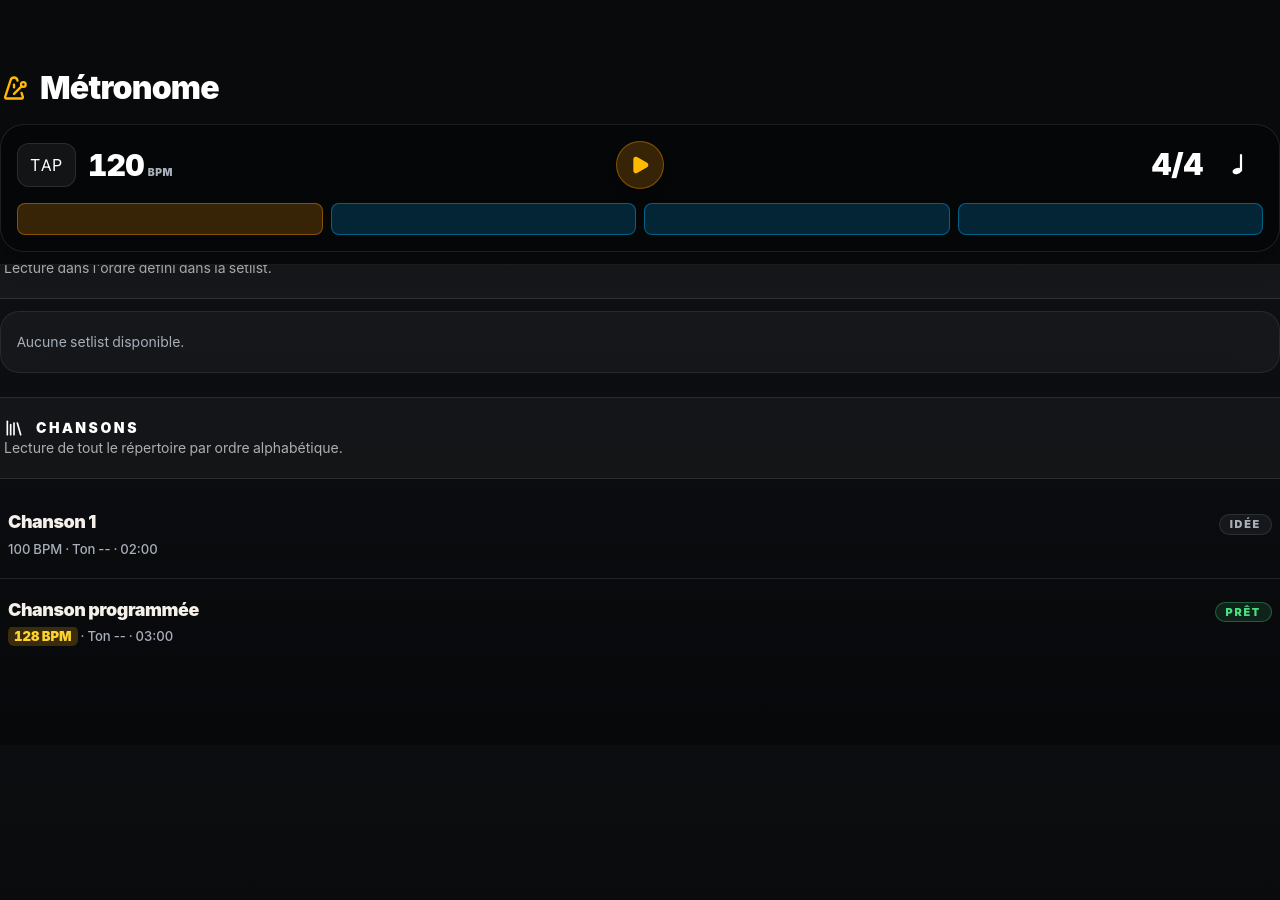
it: MetronomePage - Morceaux programmés › affiche une section infinie sans fin de mesures
The image size is (1280, 900).
Click the button with aria-label "Lancer le métronome programmé de Chanson programmée" at coordinates (103, 609), box [0,579,1279,665]
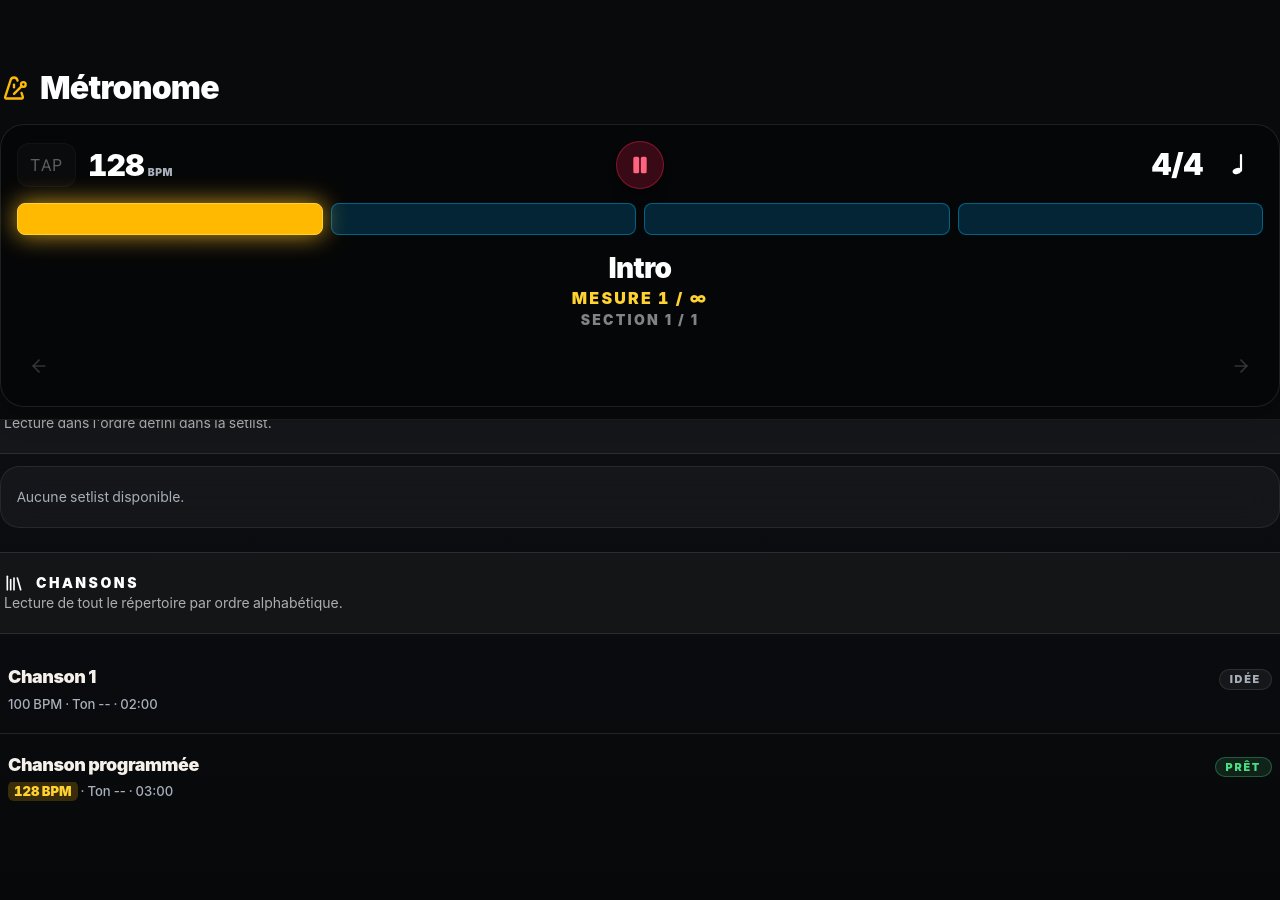
Expected: the text "Mesure 1 / ∞" is shown, [572,288,708,308]
Expected: the text "Section 1 / 1" is shown, [581,311,699,328]
